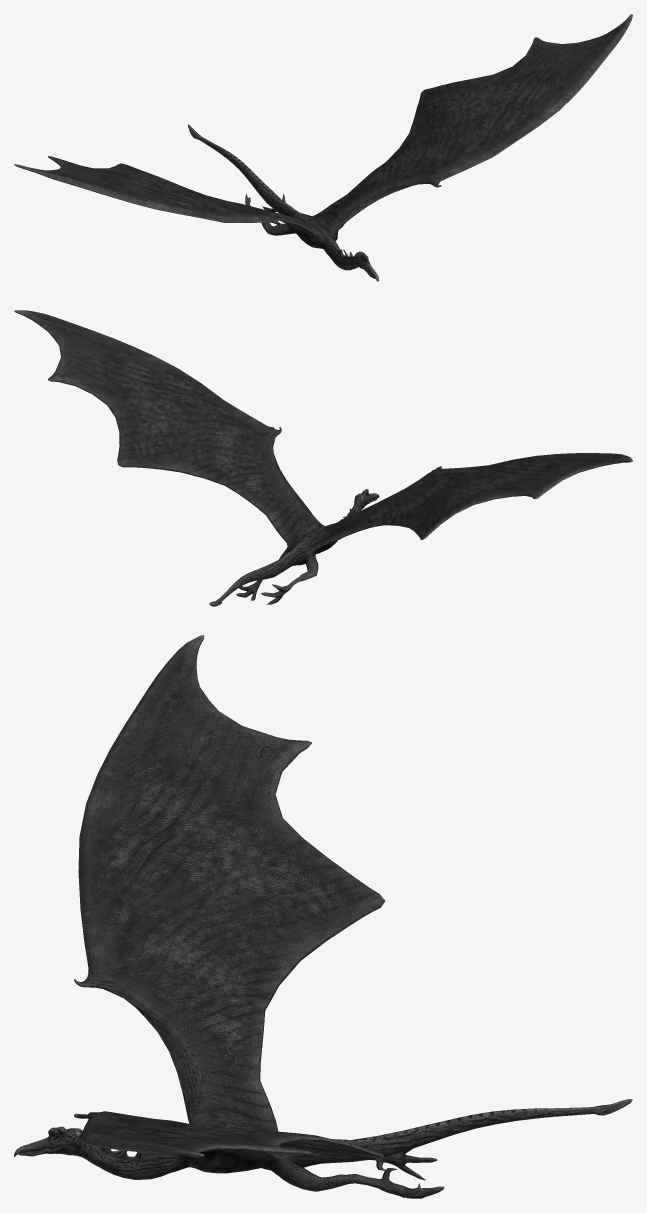
File: Fellbeast_Animate_Flying_16.obj
The picture shows the model from 3 angles, top to bottom: view 1: azimuth 30°, elevation 25°; view 2: azimuth 150°, elevation 25°; view 3: azimuth 270°, elevation 25°; orthographic projection. The views are drawn at different scales.
Parts seen in each view (by area): view 1: Fellbeast; view 2: Fellbeast; view 3: Fellbeast.
Part boxes in pixels (x1,y1,x2,y2): Fellbeast: (14,14,632,281); Fellbeast: (14,310,632,606); Fellbeast: (14,635,632,1198).
Bounding box in the file's own units: 8.7 × 2.29 × 4.38.
